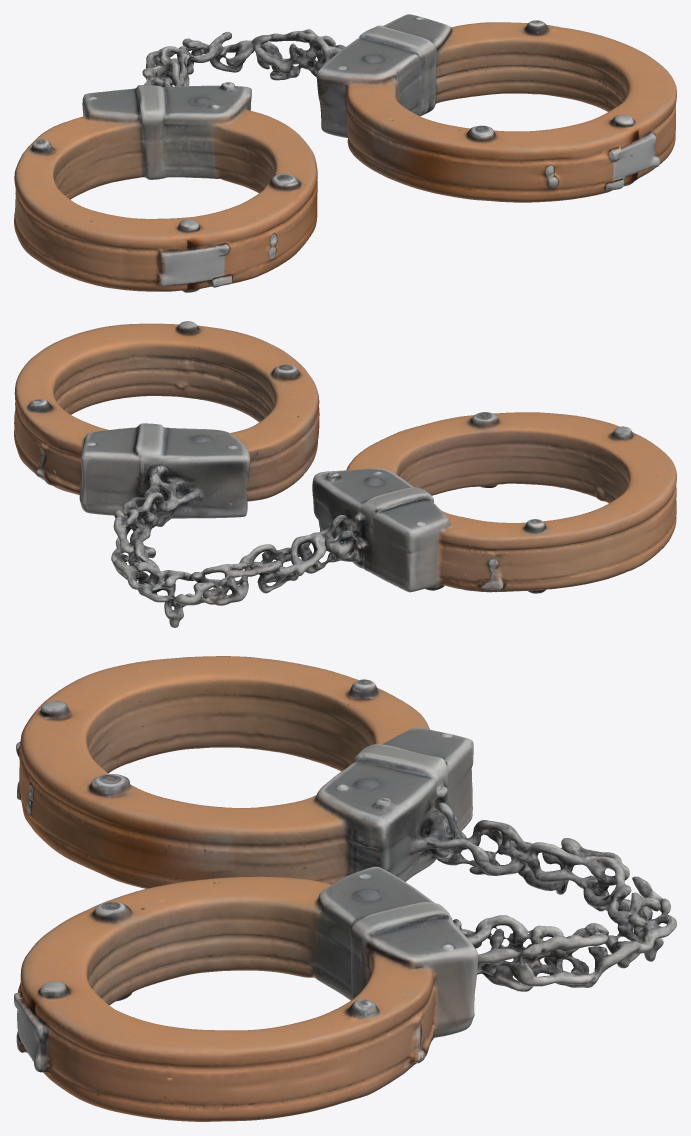
Rendered from Police_handcuffs.fbx.
The picture shows the model from 3 angles, top to bottom: view 1: azimuth 30°, elevation 25°; view 2: azimuth 150°, elevation 25°; view 3: azimuth 270°, elevation 25°; orthographic projection. The views are drawn at different scales.
Visible parts, largest first — view 1: Mesh_0; view 2: Mesh_0; view 3: Mesh_0.
Part boxes in pixels (left/top/right/bottom): Mesh_0: left=14, top=14, right=676, bottom=292; Mesh_0: left=14, top=321, right=676, bottom=627; Mesh_0: left=14, top=656, right=676, bottom=1121.
Bounding box in the file's own units: 200 × 29.22 × 141.
Materials: 1 (1 with a texture image).
